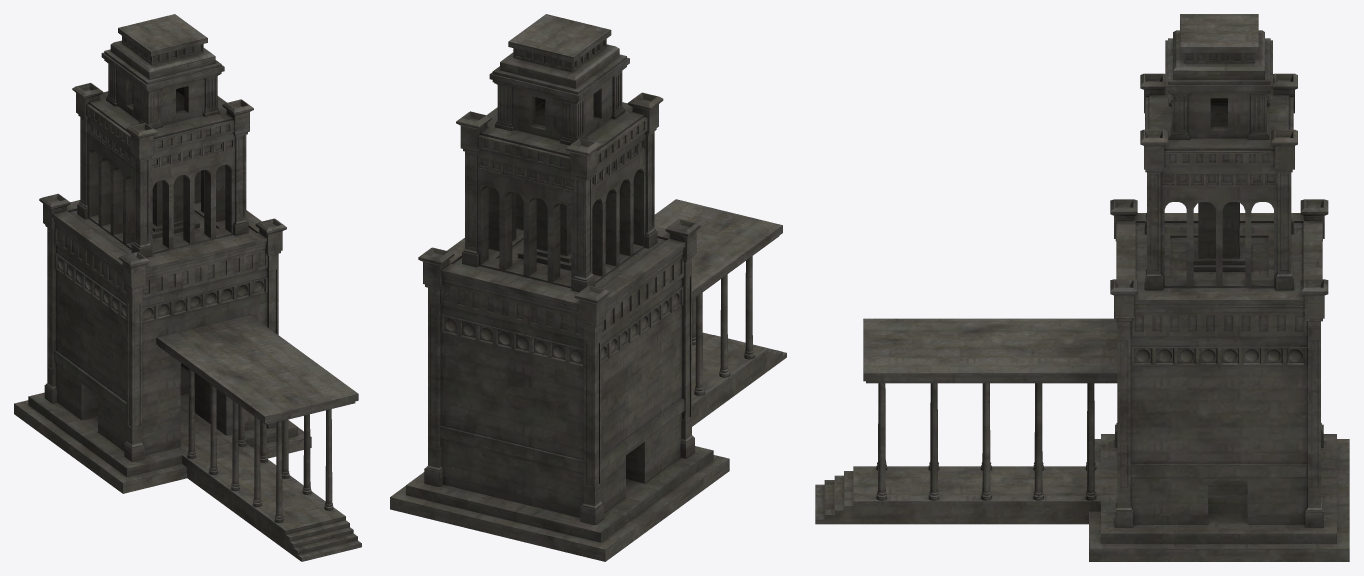
File: temple-transformed.glb
The picture shows the model from 3 angles, left to right: view 1: azimuth 30°, elevation 25°; view 2: azimuth 150°, elevation 25°; view 3: azimuth 270°, elevation 25°; orthographic projection. The views are drawn at different scales.
Visible parts, largest first — view 1: Temple.001_Temple_0; view 2: Temple.001_Temple_0; view 3: Temple.001_Temple_0.
Part boxes in pixels (left/top/right/bottom): Temple.001_Temple_0: left=14, top=14, right=361, bottom=561; Temple.001_Temple_0: left=390, top=14, right=786, bottom=561; Temple.001_Temple_0: left=815, top=14, right=1349, bottom=561.
Bounding box in the file's own units: 7.19 × 14.5 × 14.75.
1 material, 1 textured.
